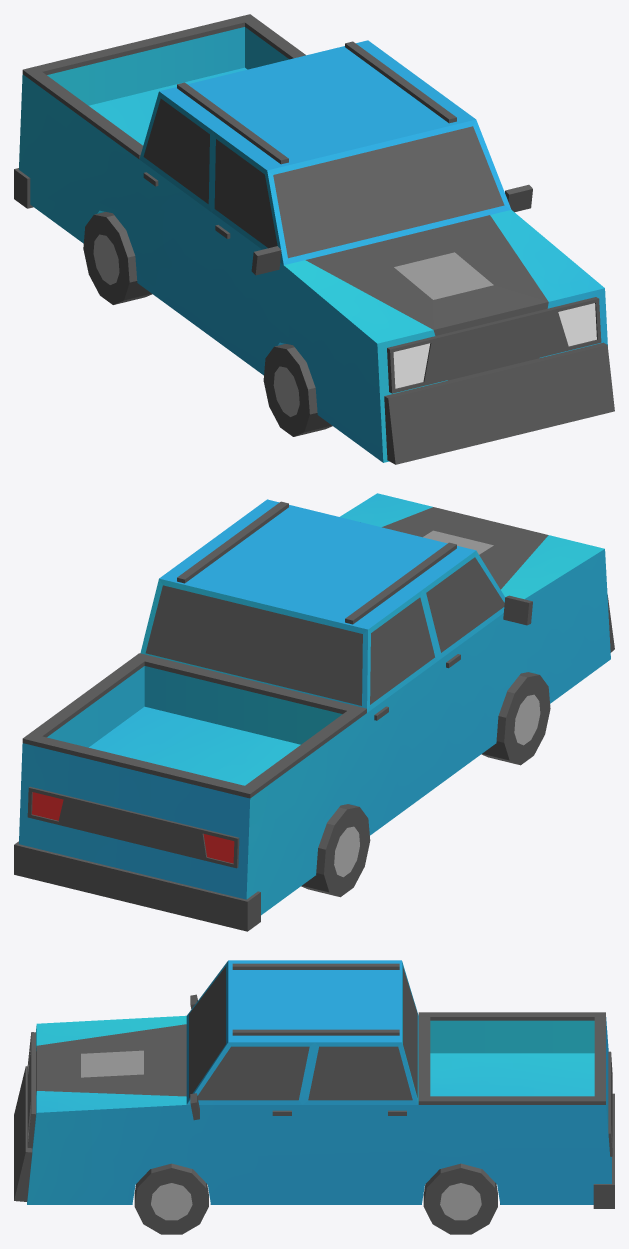
The model's file is SM_Car_03_04.FBX.
The picture shows the model from 3 angles, top to bottom: view 1: azimuth 30°, elevation 25°; view 2: azimuth 150°, elevation 25°; view 3: azimuth 270°, elevation 25°; orthographic projection. The views are drawn at different scales.
Parts seen in each view (by area): view 1: SM_Car_03_04, SM_Wheel_LFront001, SM_Wheel_RBack001; view 2: SM_Car_03_04, SM_Wheel_RBack001, SM_Wheel_LFront001; view 3: SM_Car_03_04, SM_Wheel_LBack001, SM_Wheel_LFront002.
Boxes of the visible parts, x1=… form: SM_Car_03_04: x1=14, y1=14, x2=614, y2=464; SM_Wheel_LFront001: x1=263, y1=344, x2=332, y2=436; SM_Wheel_RBack001: x1=83, y1=212, x2=152, y2=304; SM_Car_03_04: x1=14, y1=493, x2=614, y2=931; SM_Wheel_RBack001: x1=301, y1=804, x2=370, y2=897; SM_Wheel_LFront001: x1=481, y1=672, x2=550, y2=765; SM_Car_03_04: x1=14, y1=960, x2=614, y2=1208; SM_Wheel_LBack001: x1=423, y1=1163, x2=497, y2=1234; SM_Wheel_LFront002: x1=134, y1=1163, x2=208, y2=1234.
Bounding box in the file's own units: 1.7 × 1.39 × 4.
1 material, 1 textured.
